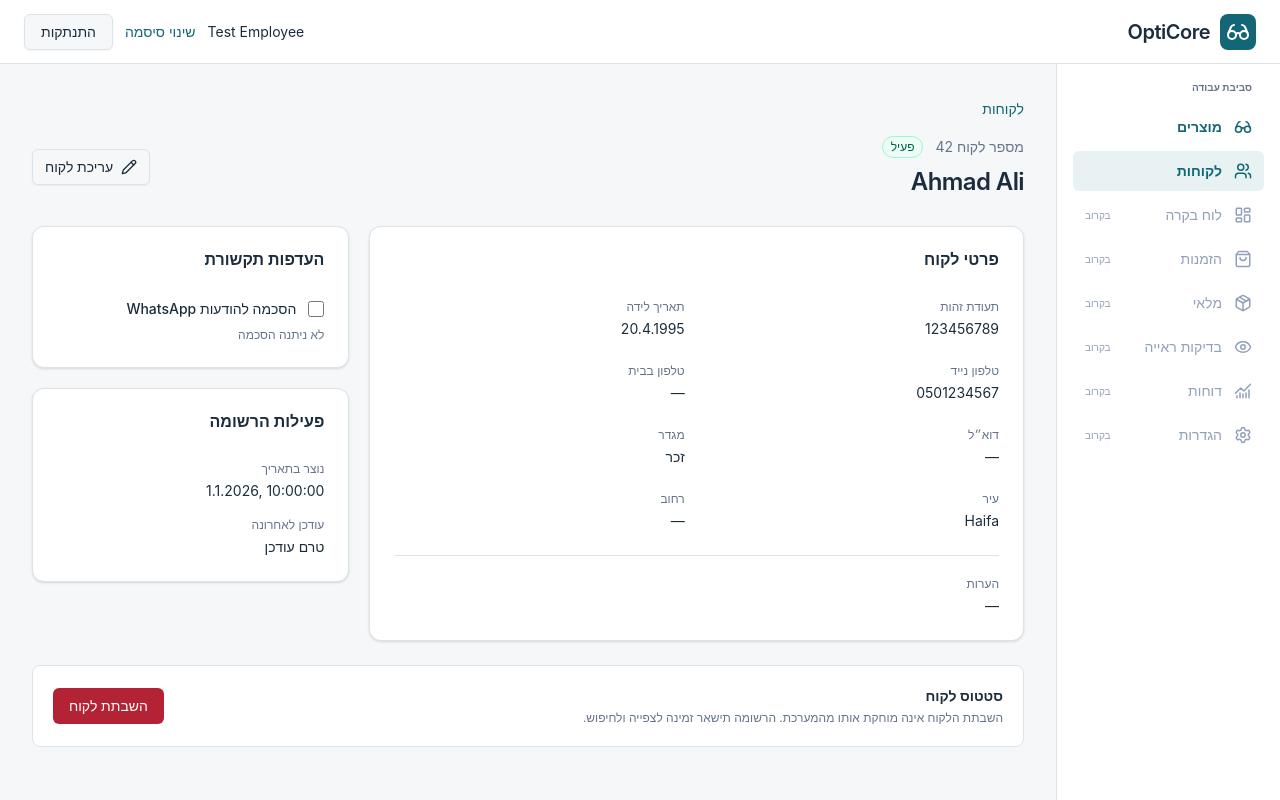
customer workflows › cancels deactivation without mutation
The image size is (1280, 800).
Click the button "השבתת לקוח" at (108, 706), box [53,688,164,724]
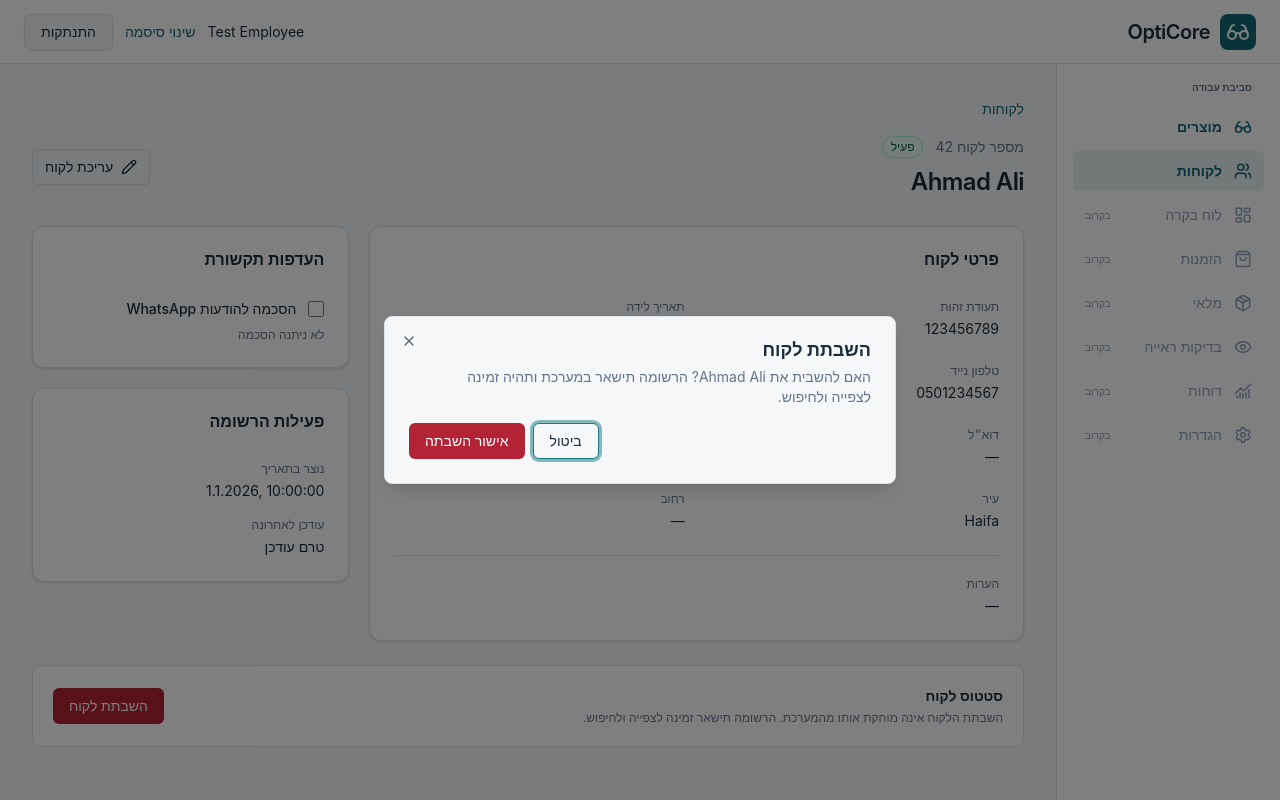
Click the button "ביטול" at (566, 441), box [532,423,599,459]
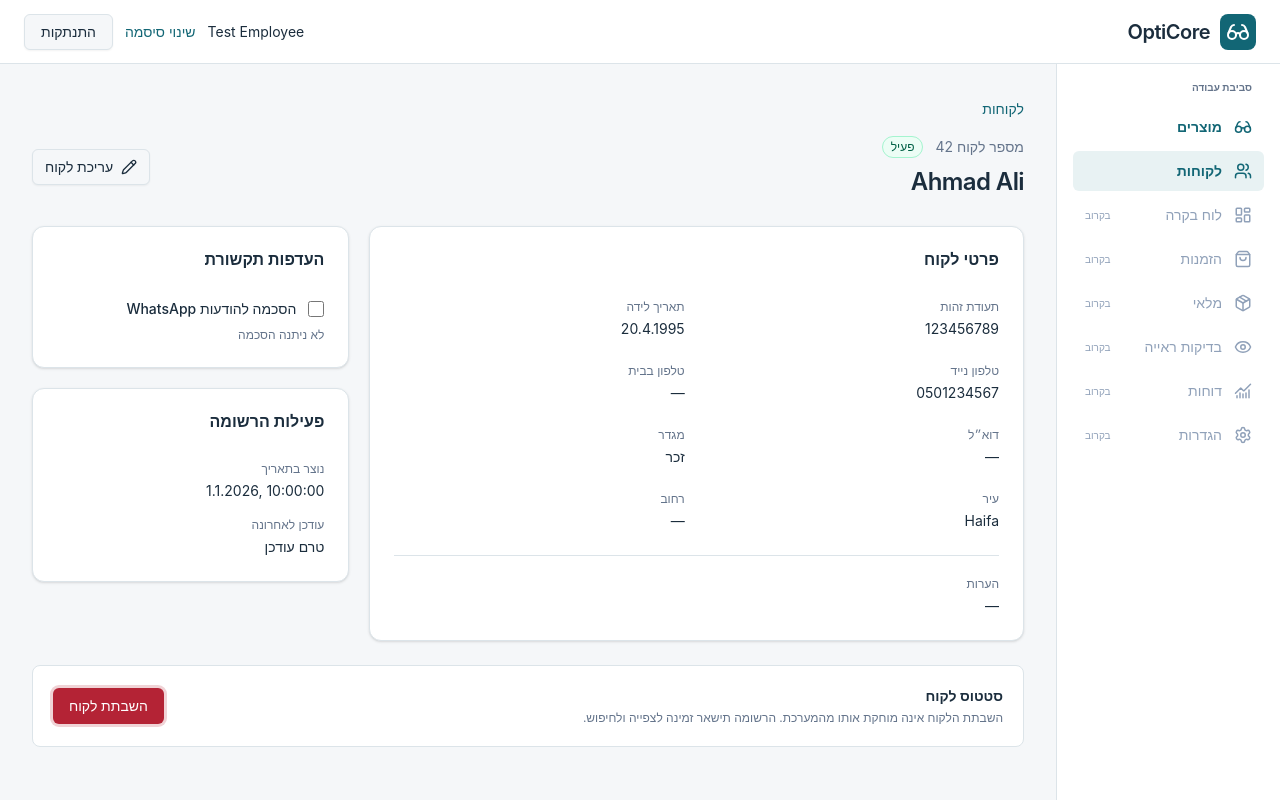
Now the dialog is gone
